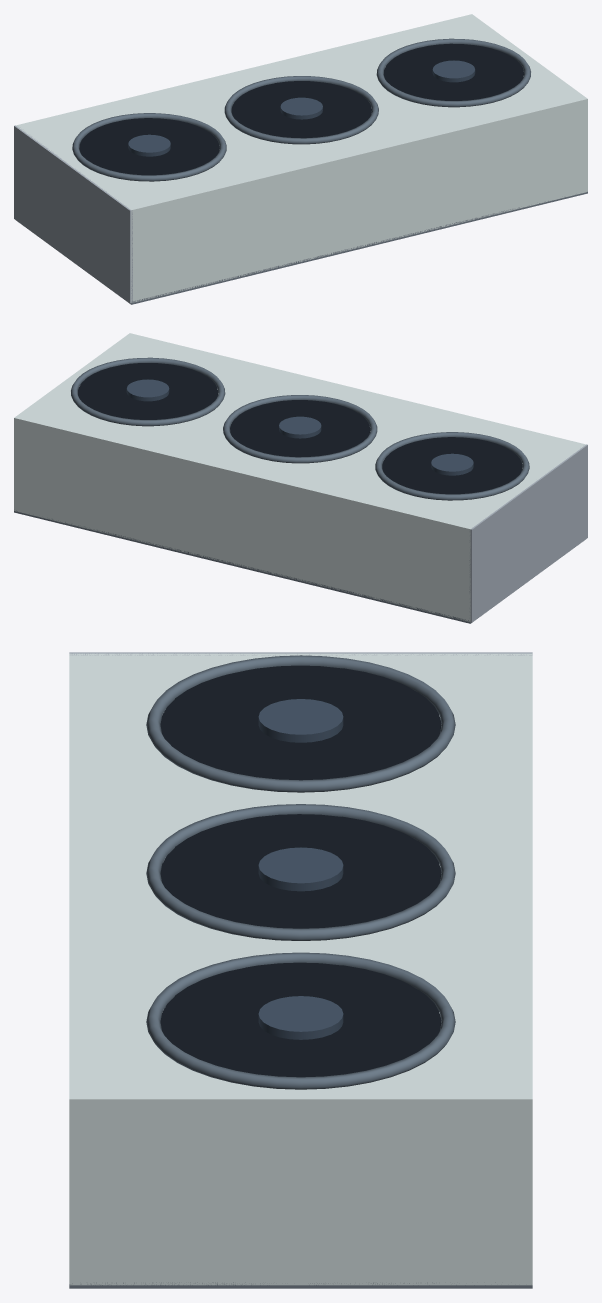
The model's file is retail-asrock-radeon-rx-9070-xt-steel-legend-16gb.glb.
3 views of the same model, one above another, from view 1: azimuth 30°, elevation 25°; view 2: azimuth 150°, elevation 25°; view 3: azimuth 270°, elevation 25° (orthographic). The views are drawn at different scales.
Visible parts, largest first — view 1: Cooler shroud, Cooler blade (×27), Bracket, Fan rim (×3), Fan hub (×3), Backplate; view 2: Cooler shroud, Cooler blade (×27), Bracket, Fan rim (×3), Fan hub (×3), Backplate; view 3: Cooler shroud, Cooler blade (×27), Fan rim (×3), Fan hub (×3), Backplate, Bracket.
Part boxes in pixels (x1,y1,x2,y2): Cooler shroud: (16,14,587,302); Cooler blade (×27): (79,43,523,175); Bracket: (14,125,132,303); Fan rim (×3): (72,38,530,181); Fan hub (×3): (128,60,475,156); Backplate: (18,191,587,304); Cooler shroud: (14,333,585,622); Cooler blade (×27): (78,363,522,494); Bracket: (469,444,587,622); Fan rim (×3): (71,357,529,500); Fan hub (×3): (126,379,473,475); Backplate: (14,510,583,623); Cooler shroud: (69,653,532,1285); Cooler blade (×27): (160,665,441,1077); Fan rim (×3): (146,655,455,1089); Fan hub (×3): (258,699,343,1039); Backplate: (69,1282,532,1288); Bracket: (69,652,532,655).
Size of the model in its own units: 0.299 by 0.0625 by 0.131.
